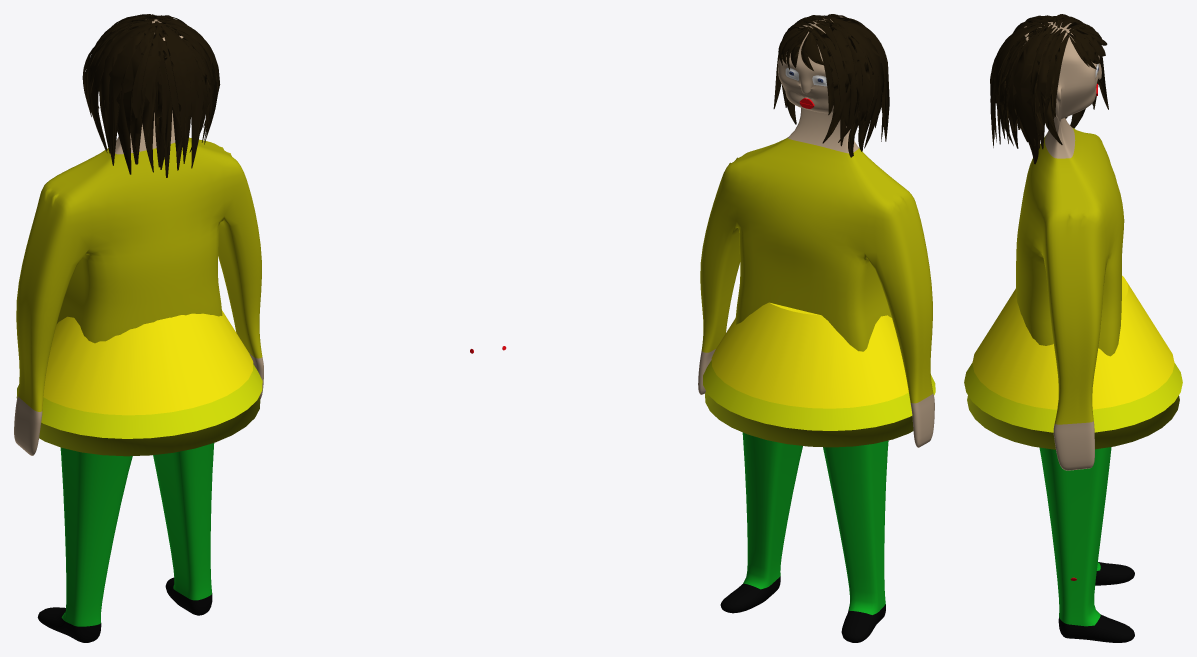
File: Anne-Marie_neu.fbx
The picture shows the model from 3 angles, left to right: view 1: azimuth 30°, elevation 25°; view 2: azimuth 150°, elevation 25°; view 3: azimuth 270°, elevation 25°; orthographic projection. The views are drawn at different scales.
Parts seen in each view (by area): view 1: Cube, Circle.001, NurbsPath.001, Circle.010, Circle.005; view 2: Cube, Circle.001, NurbsPath.001, Circle.010, Circle.005; view 3: Cube, Circle.001, NurbsPath.001, Circle.010, Circle.005.
Boxes of the visible parts, x1,y1,x2,y2 form: Cube: (14,19,263,642); Circle.001: (43,310,253,415); NurbsPath.001: (82,14,220,177); Circle.010: (16,364,262,438); Circle.005: (39,397,260,456); Cube: (698,16,934,642); Circle.001: (711,302,908,408); NurbsPath.001: (773,14,889,157); Circle.010: (703,360,935,430); Circle.005: (705,391,913,447); Cube: (1016,22,1134,642); Circle.001: (972,275,1174,409); NurbsPath.001: (990,14,1108,164); Circle.010: (964,363,1182,432); Circle.005: (967,395,1179,449).
Bounding box in the file's own units: 91.89 × 120 × 40.35.
